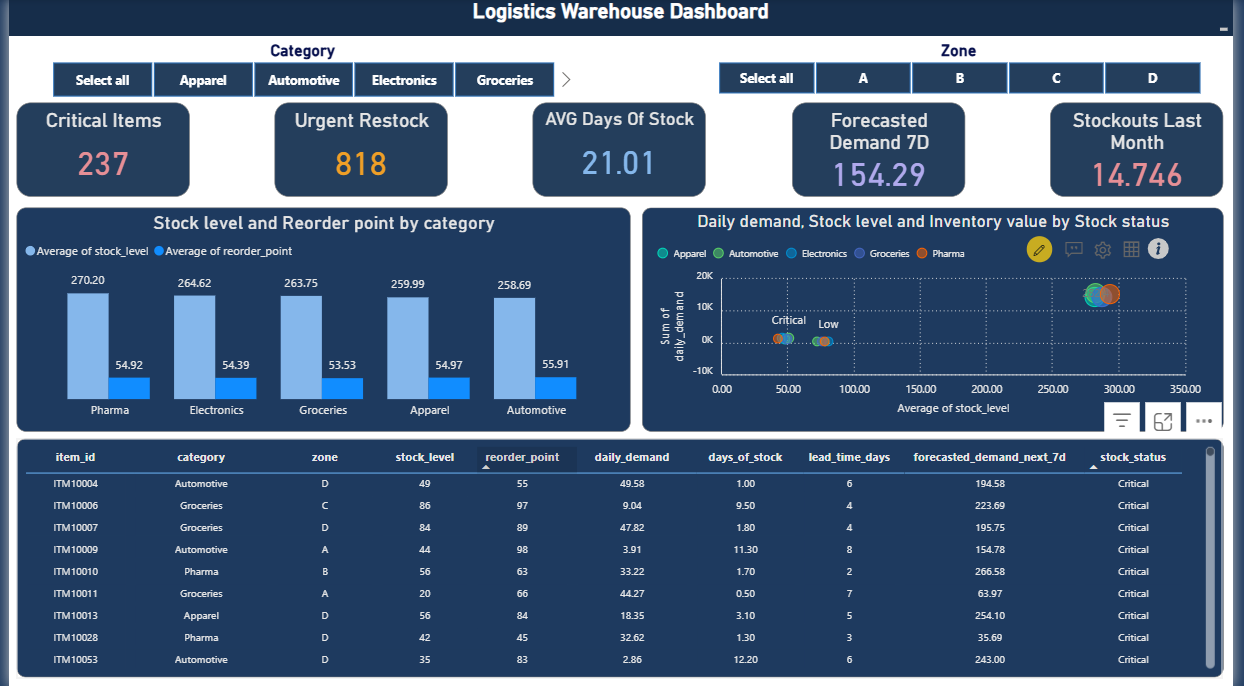

The page's visual inventory and layout, read from the dashboard file:
{"tool":"powerbi","page":{"name":"Inventory Risk","canvas":[1280,720],"ordinal":2},"visuals":[{"type":"card","title":"AVG Days Of Stock","fields":{"Values":["Avg(logistics_powerbi.days_of_stock)"]},"box":[548.6,108.8,181.4,98.8],"z":0},{"type":"card","title":"Critical Items","fields":{"Values":["logistics_powerbi.Critical Items"]},"box":[7.3,108.8,181.4,98.8],"z":1000},{"type":"card","title":"Urgent Restock","fields":{"Values":["logistics_powerbi.Urgent Restock Items"]},"box":[277.5,108.8,181.4,98.8],"z":2000},{"type":"card","title":"Stockouts Last Month","fields":{"Values":["logistics_powerbi.Total Stockouts Last Month"]},"box":[1089.1,108.8,181.4,98.8],"z":3000},{"type":"card","title":"Forecasted Demand 7D","fields":{"Values":["Avg(logistics_powerbi.forecasted_demand_next_7d)"]},"box":[818.8,108.8,181.4,98.8],"z":4000},{"type":"textbox","title":"Logistics Warehouse Dashboard","box":[0,0,1280.4,38.1],"z":5000},{"type":"clusteredColumnChart","title":"Stock level and Reorder point by category","fields":{"Category":["logistics_powerbi.category"],"Y":["Avg(logistics_powerbi.stock_level)","Avg(logistics_powerbi.reorder_point)"]},"box":[7.3,217.6,642.9,234.9],"z":6000},{"type":"performanceBubbleChartFBAAA829CB604E5CAB4F21729F233294","title":"Daily demand, Stock level and Inventory value by Stock status","fields":{"xmeasure":["Avg(logistics_powerbi.stock_level)"],"ymeasure":["Sum(logistics_powerbi.daily_demand)"],"zmeasure":["Sum(logistics_powerbi.inventory_value)"],"category":["logistics_powerbi.stock_status"],"legend":["logistics_powerbi.category"]},"box":[662,217.6,608.5,234.9],"z":7000},{"type":"tableEx","fields":{"Values":["logistics_powerbi.item_id","logistics_powerbi.category","logistics_powerbi.zone","logistics_powerbi.stock_level","logistics_powerbi.reorder_point","logistics_powerbi.daily_demand","logistics_powerbi.days_of_stock","logistics_powerbi.lead_time_days","logistics_powerbi.forecasted_demand_next_7d","logistics_powerbi.stock_status"]},"box":[7.3,460.7,1263.2,250.3],"z":8000},{"type":"slicer","title":"Category","fields":{"Values":["logistics_powerbi.category"]},"box":[20.9,43.5,574,65.3],"z":9000},{"type":"slicer","title":"Zone","fields":{"Values":["logistics_powerbi.zone"]},"box":[717.3,43.5,553.1,61.7],"z":10000}]}

Visuals, with their boxes in screenshot pixels (x1, y1, x2, y2), scaled from the page's 1280x720 canvas onto the 1244x686 screenshot:
"AVG Days Of Stock" card: BBox(533, 104, 709, 198)
"Critical Items" card: BBox(7, 104, 183, 198)
"Urgent Restock" card: BBox(270, 104, 446, 198)
"Stockouts Last Month" card: BBox(1058, 104, 1235, 198)
"Forecasted Demand 7D" card: BBox(796, 104, 972, 198)
"Logistics Warehouse Dashboard" textbox: BBox(0, 0, 1243, 36)
"Stock level and Reorder point by category" clusteredColumnChart: BBox(7, 207, 632, 431)
"Daily demand, Stock level and Inventory value by Stock status" performanceBubbleChartFBAAA829CB604E5CAB4F21729F233294: BBox(643, 207, 1235, 431)
tableEx - logistics_powerbi.item_id x logistics_powerbi.category: BBox(7, 439, 1235, 677)
"Category" slicer: BBox(20, 41, 578, 104)
"Zone" slicer: BBox(697, 41, 1235, 100)
